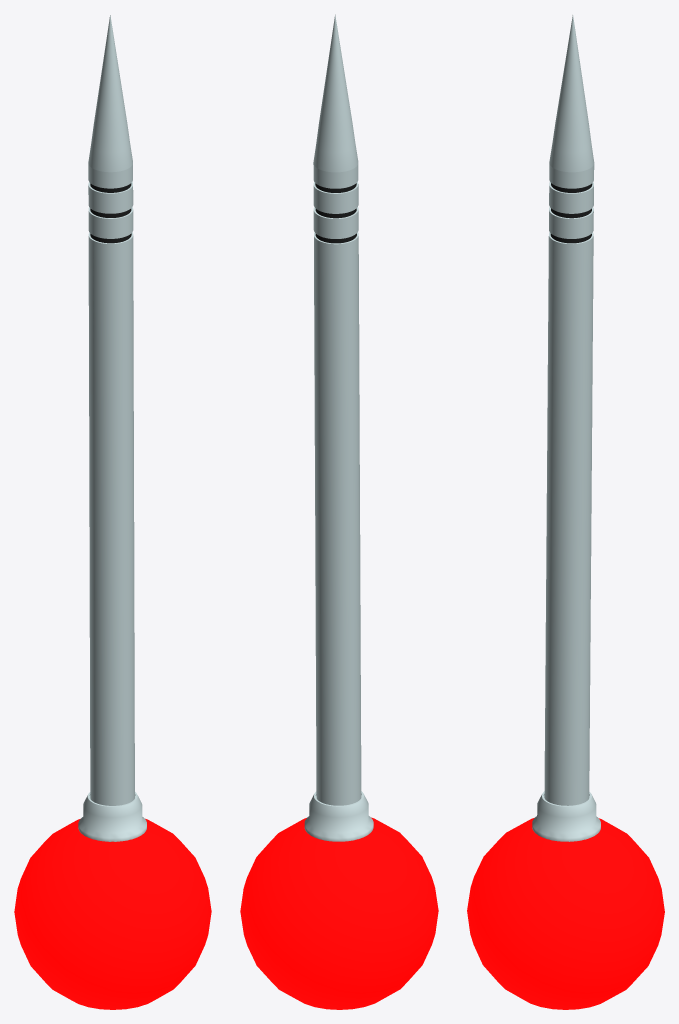
3 views of the same model, side by side, from view 1: azimuth 30°, elevation 25°; view 2: azimuth 150°, elevation 25°; view 3: azimuth 270°, elevation 25° (orthographic).
Visible parts, largest first — view 1: Needle_2; view 2: Needle_2; view 3: Needle_2.
Part boxes in pixels (<box>): Needle_2: <box>14,15,211,1009</box>; Needle_2: <box>240,14,438,1009</box>; Needle_2: <box>467,15,664,1009</box>.
Size of the model in its own units: 0.0499 by 0.2748 by 0.0499.
